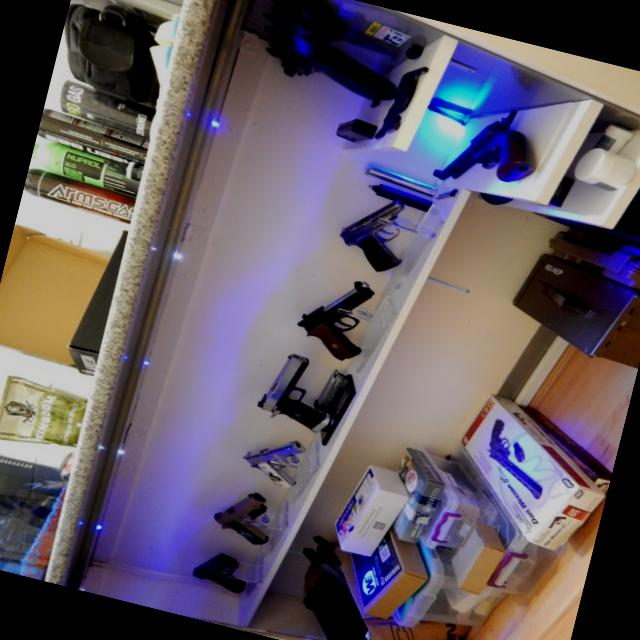handgun: (428, 97, 572, 210), (246, 346, 374, 444), (322, 190, 433, 279), (288, 271, 382, 361), (238, 428, 316, 502), (173, 543, 260, 603), (205, 486, 287, 547)
